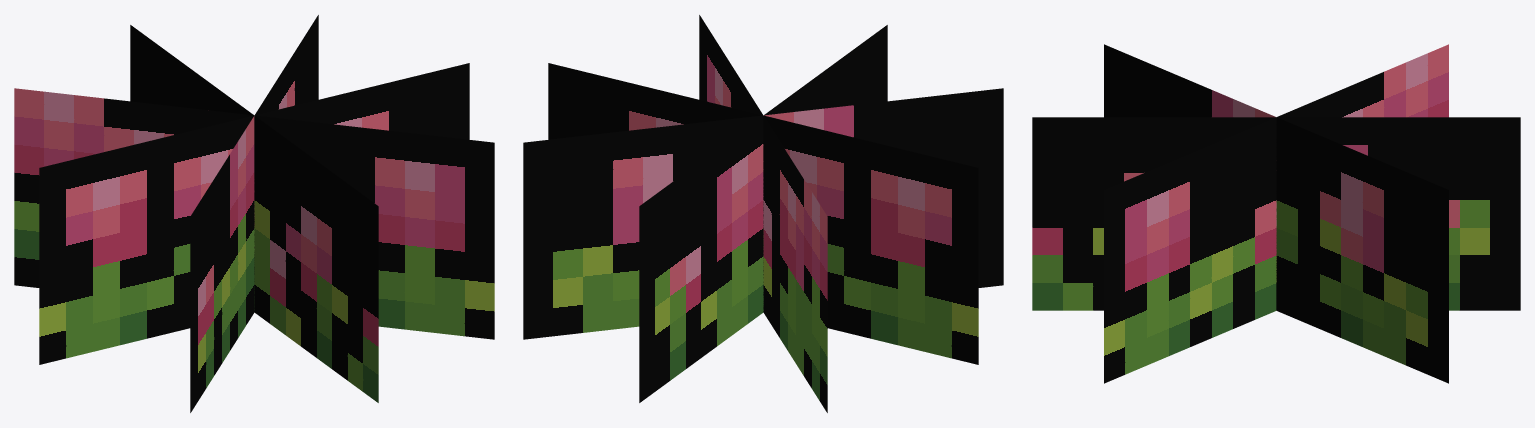
File: TulipSeedling.fbx
The picture shows the model from 3 angles, left to right: view 1: azimuth 30°, elevation 25°; view 2: azimuth 150°, elevation 25°; view 3: azimuth 270°, elevation 25°; orthographic projection.
Parts seen in each view (by area): view 1: plane; view 2: plane; view 3: plane.
Part boxes in pixels (bbox=[...]): plane: bbox=[14, 15, 494, 412]; plane: bbox=[523, 15, 1003, 412]; plane: bbox=[1032, 44, 1520, 383].
Size of the model in its own units: 100 by 43.75 by 100.
1 material, 1 textured.
